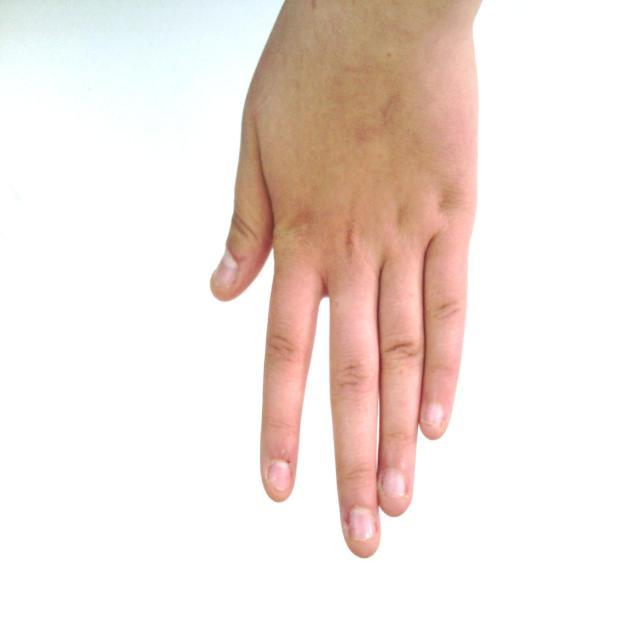Fingernail: (212, 253, 237, 289), (349, 508, 374, 541), (269, 462, 291, 492), (382, 471, 405, 496), (423, 404, 443, 424)
